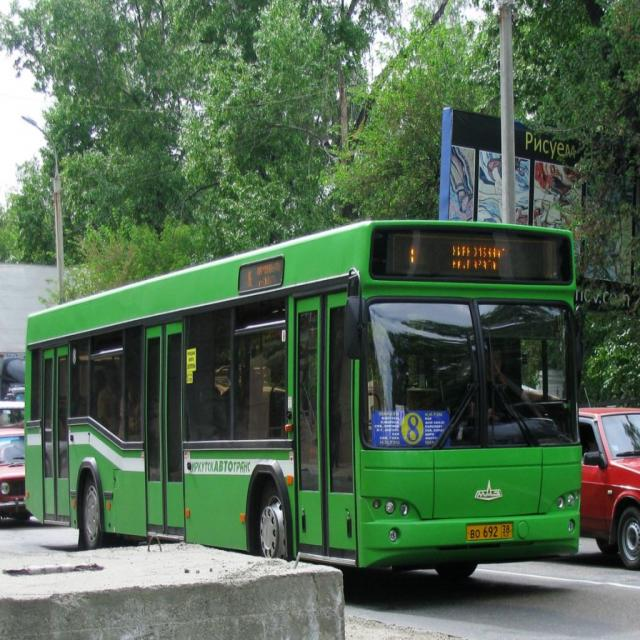number-of-bus: (406, 415, 421, 442)
